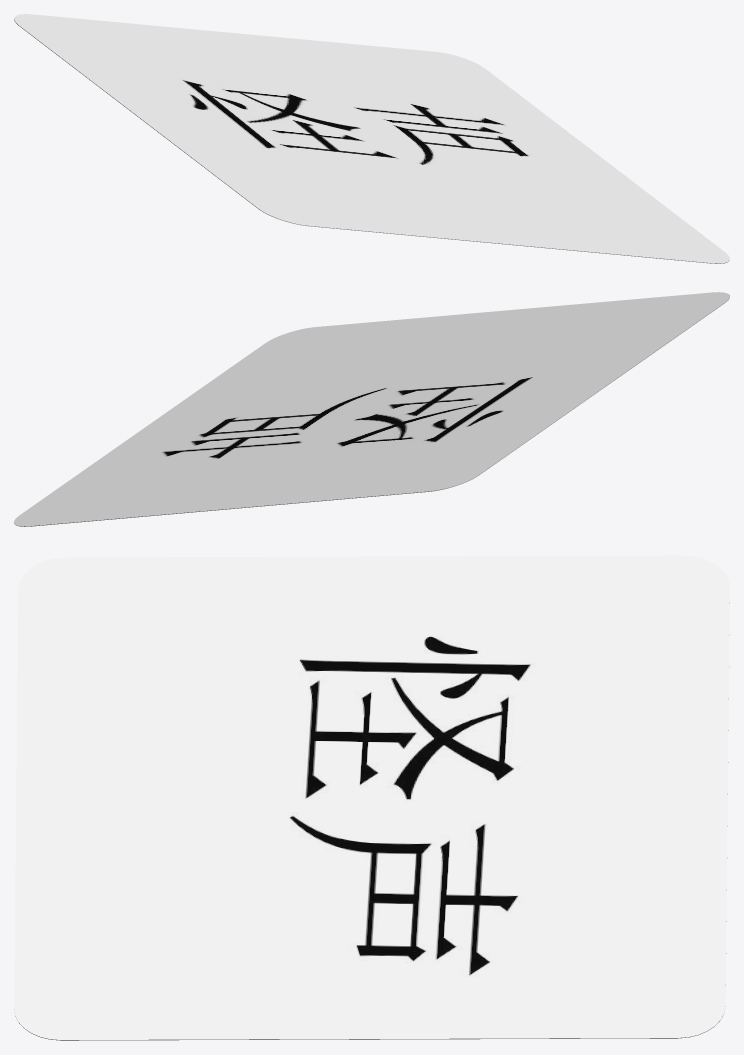
The model's file is GuaiSheng.FBX.
3 renders of one model, top to bottom at view 1: azimuth 30°, elevation 25°; view 2: azimuth 150°, elevation 25°; view 3: azimuth 270°, elevation 25°, orthographic. The views are drawn at different scales.
Parts seen in each view (by area): view 1: Rectangle001; view 2: Rectangle001; view 3: Rectangle001.
Part boxes in pixels (x1,y1,x2,y2): Rectangle001: [14, 14, 729, 263]; Rectangle001: [14, 292, 729, 526]; Rectangle001: [14, 555, 729, 1040].
Bounding box in the file's own units: 57.7 × 18.73 × 60.36.
